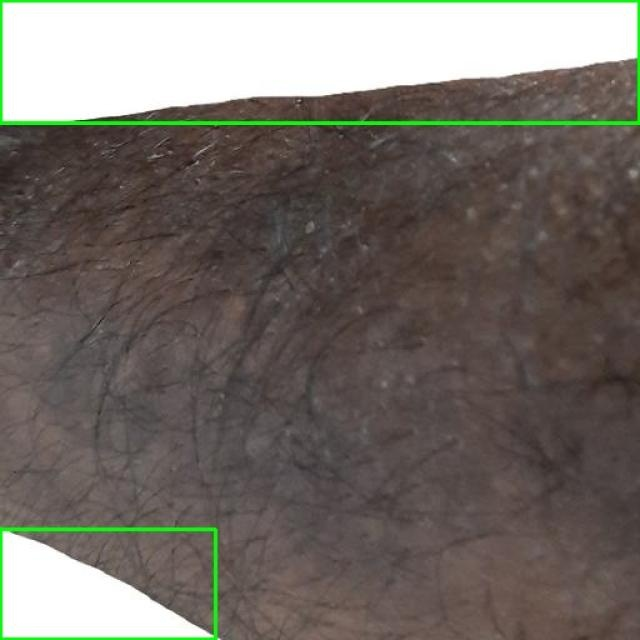Contact Dermatitis: (0, 0, 639, 122), (0, 529, 215, 639)
